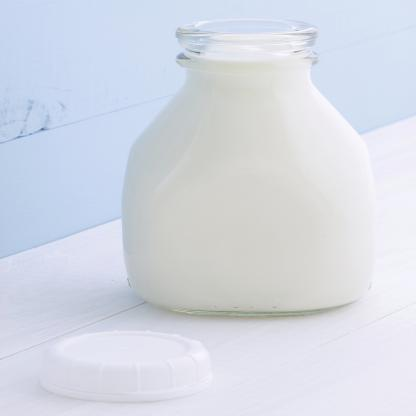milk: (126, 19, 378, 319)
